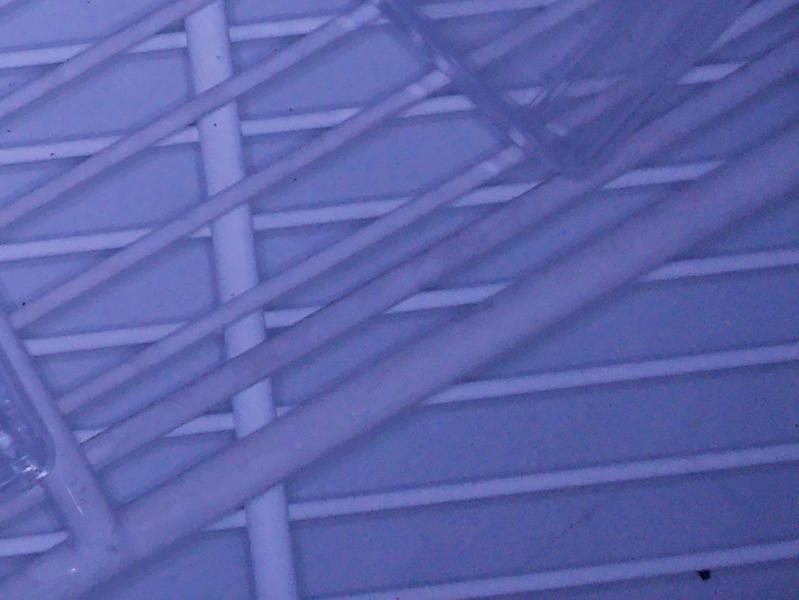plate: (374, 1, 753, 182), (1, 352, 54, 499)
